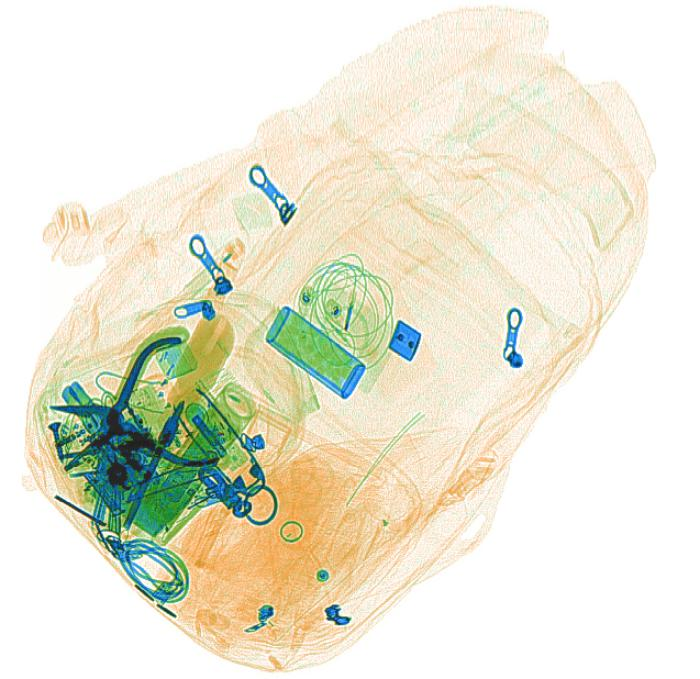battery: (159, 424, 219, 505)
